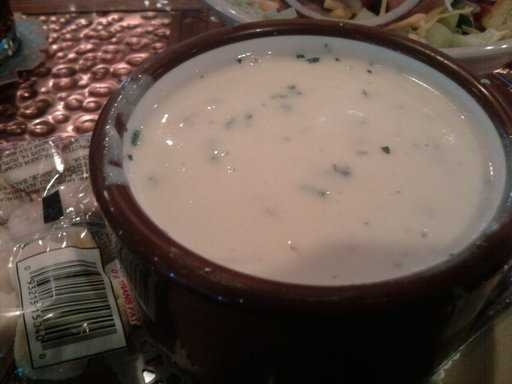soup: (109, 32, 482, 271)
